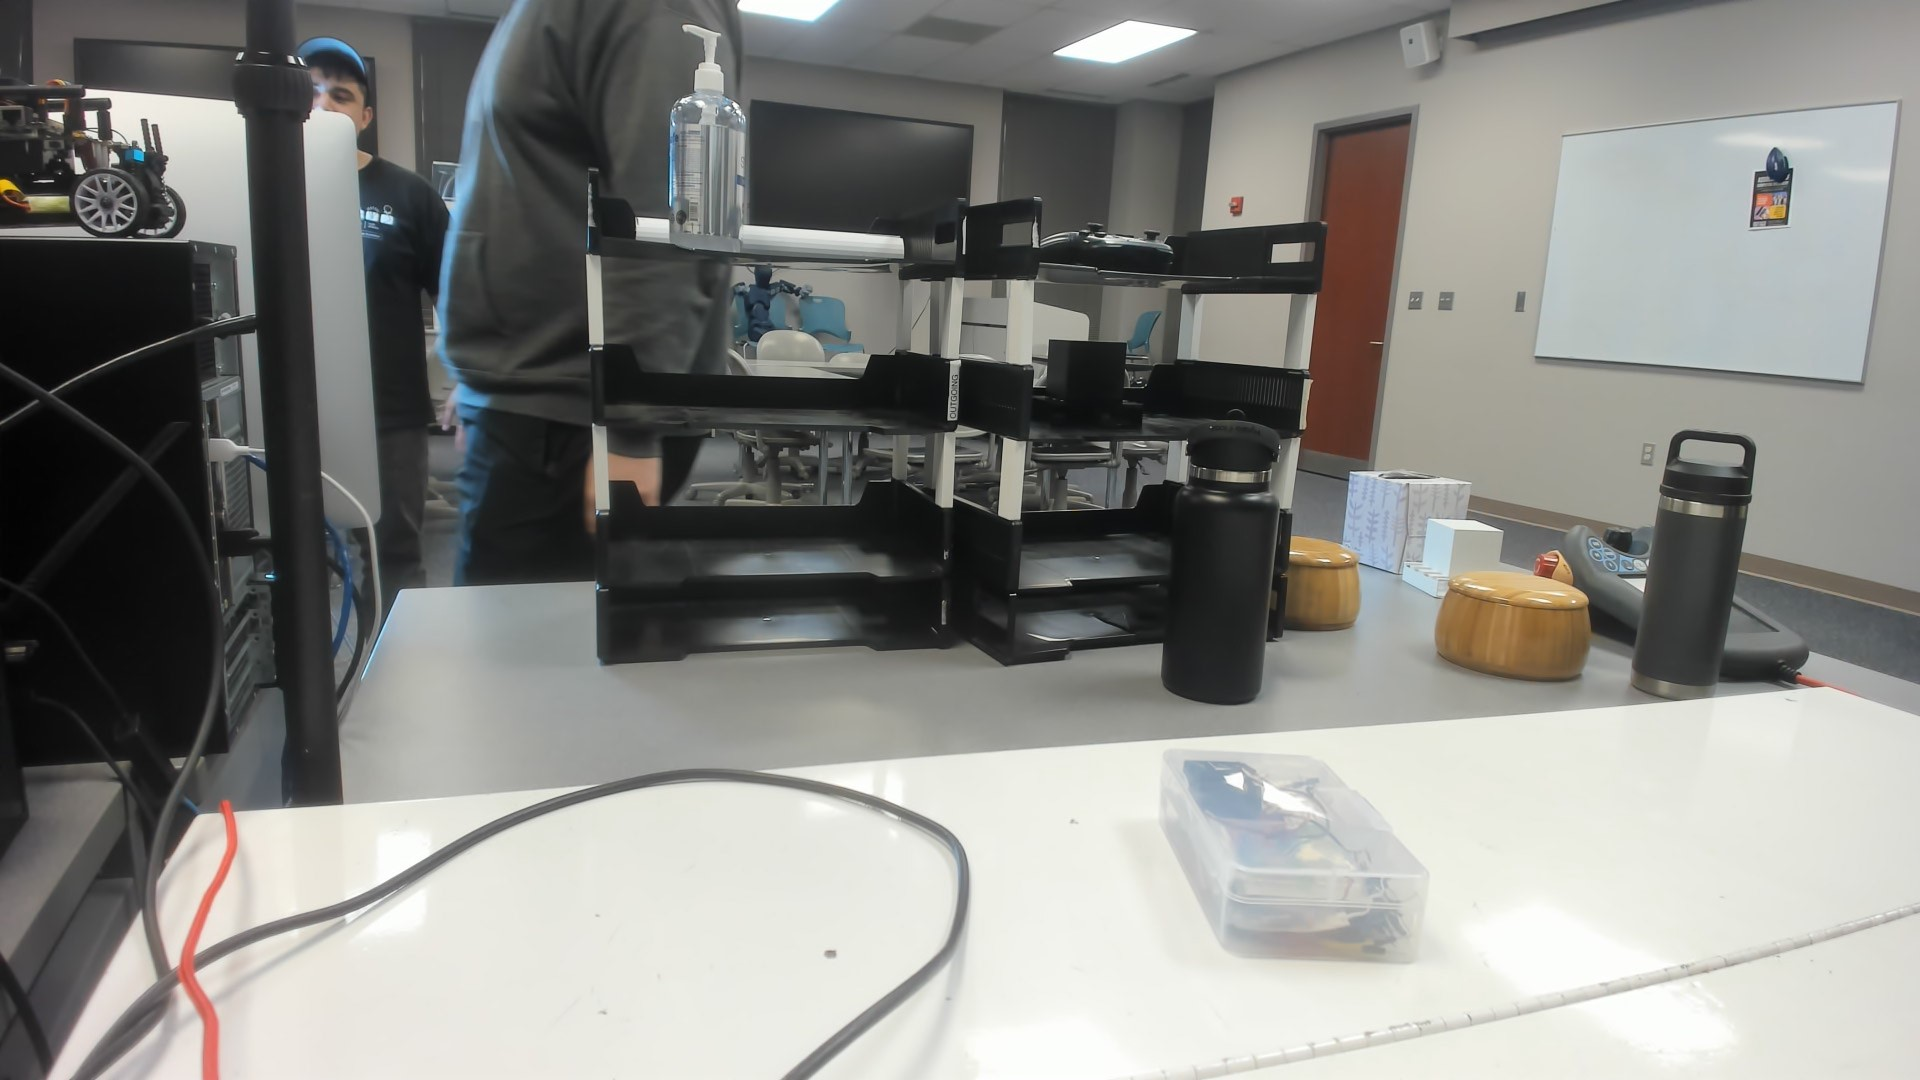black pallet: (1026, 334, 1145, 442)
white pallet: (1396, 516, 1509, 599)
